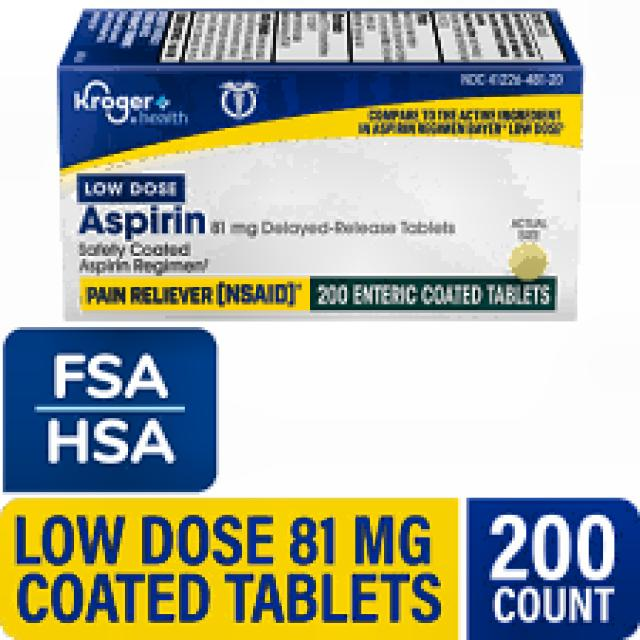Aspirin: (63, 172, 216, 252)
